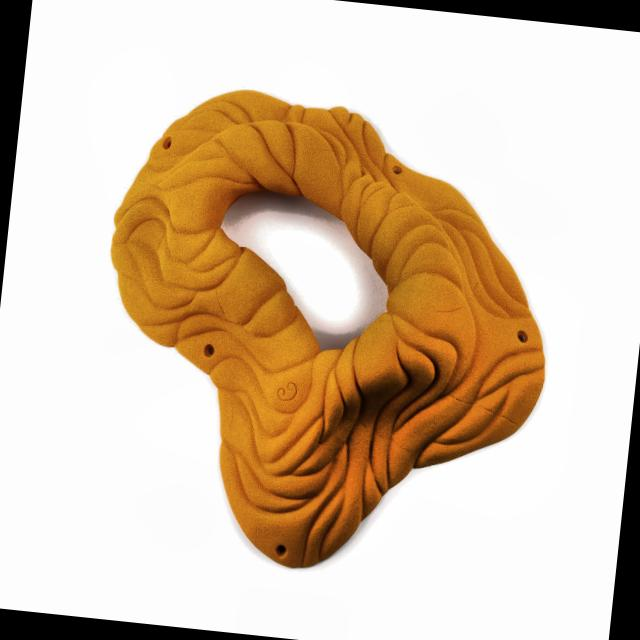Hold: (76, 76, 570, 591)
